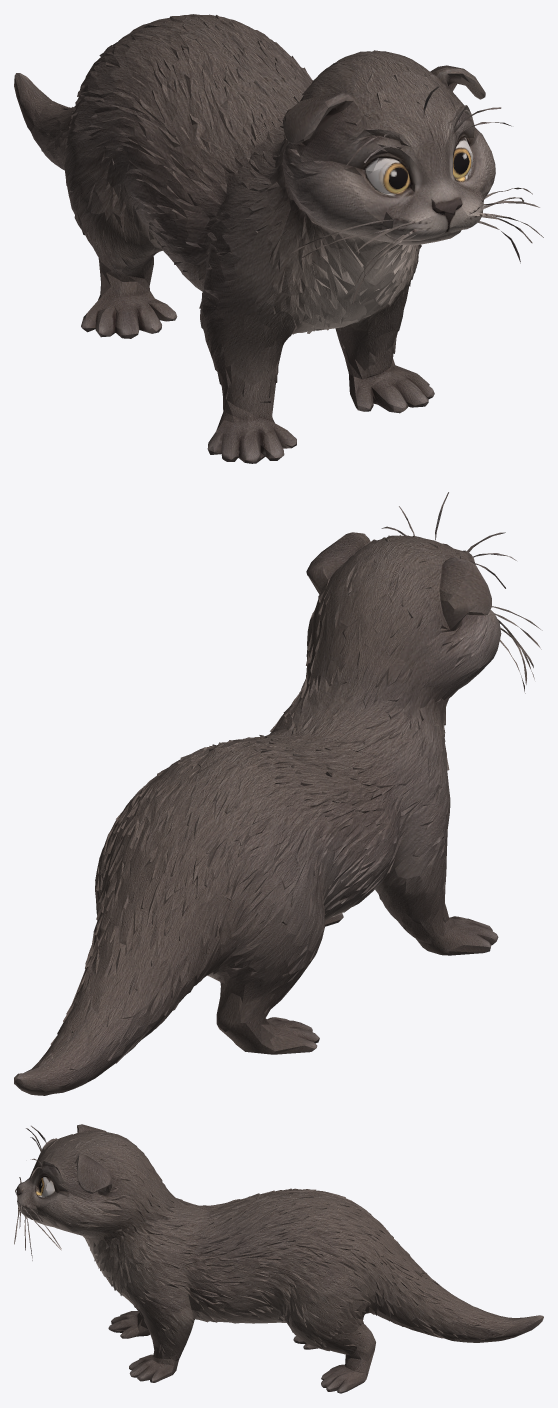
The picture shows the model from 3 angles, top to bottom: view 1: azimuth 30°, elevation 25°; view 2: azimuth 150°, elevation 25°; view 3: azimuth 270°, elevation 25°; orthographic projection. The views are drawn at different scales.
Visible parts, largest first — view 1: Mesh_0; view 2: Mesh_0; view 3: Mesh_0.
Part boxes in pixels (box(x1,y1,x2,y2)): Mesh_0: box(14, 14, 543, 463); Mesh_0: box(14, 492, 542, 1095); Mesh_0: box(14, 1124, 543, 1393).
Size of the model in its own units: 0.6474 by 0.9113 by 1.9.
1 material, 1 textured.
